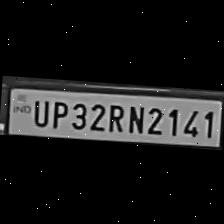1: (162, 102, 180, 136), (198, 106, 217, 137)
2: (142, 102, 164, 134), (86, 97, 106, 130)
3: (68, 98, 88, 130)
4: (177, 105, 200, 136)
N: (123, 100, 144, 133)
P: (48, 96, 68, 128)
R: (104, 98, 125, 132)
U: (28, 95, 50, 127)
